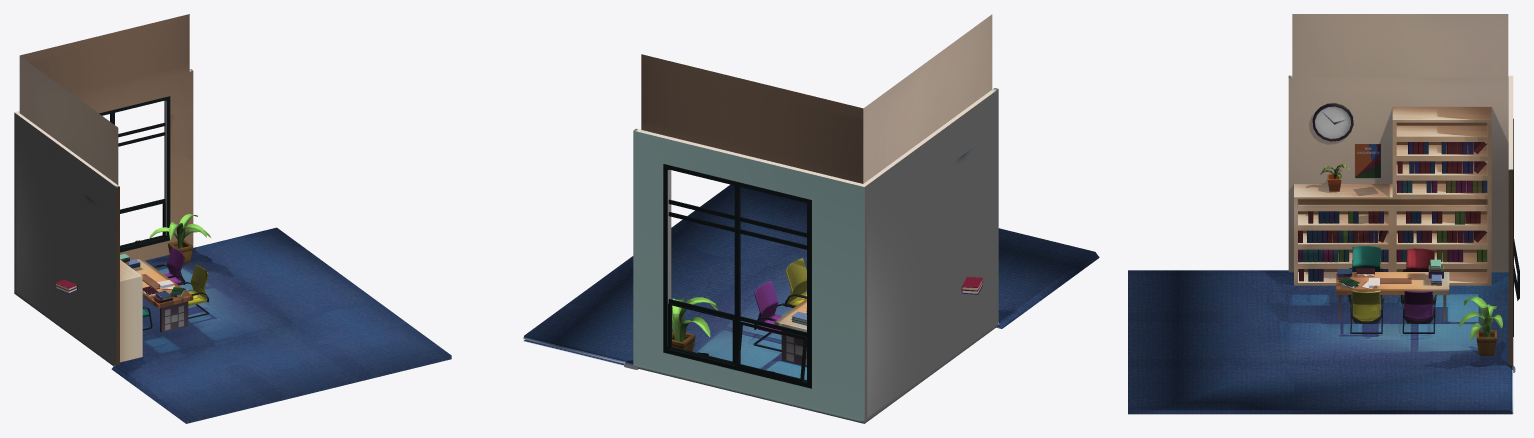
The model's file is Tx_Interior_Education_University_20170707.fbx.
The picture shows the model from 3 angles, left to right: view 1: azimuth 30°, elevation 25°; view 2: azimuth 150°, elevation 25°; view 3: azimuth 270°, elevation 25°; orthographic projection. The views are drawn at different scales.
Visible parts, largest first — view 1: Expand, polySurface224; view 2: polySurface224, Expand; view 3: polySurface224, Expand.
Boxes of the visible parts, left/top/right/bottom form: Expand: left=19, top=14, right=451, bottom=423; polySurface224: left=14, top=69, right=293, bottom=365; polySurface224: left=633, top=88, right=998, bottom=423; Expand: left=523, top=14, right=1099, bottom=369; polySurface224: left=1288, top=75, right=1519, bottom=366; Expand: left=1128, top=14, right=1515, bottom=414.
Size of the model in its own units: 38.85 by 29.39 by 39.8.
